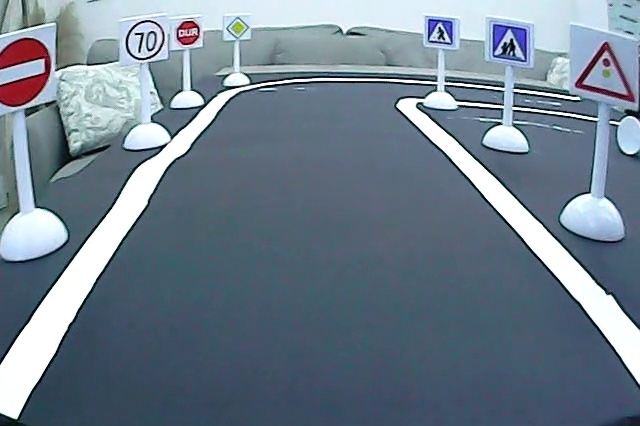do not enter: (1, 33, 53, 111)
pedestrian crossing: (424, 16, 458, 48)
red light: (573, 37, 640, 107)
school crossing: (487, 20, 531, 66)
speed limit 70: (123, 18, 167, 64)
stop sign: (174, 18, 201, 48)
